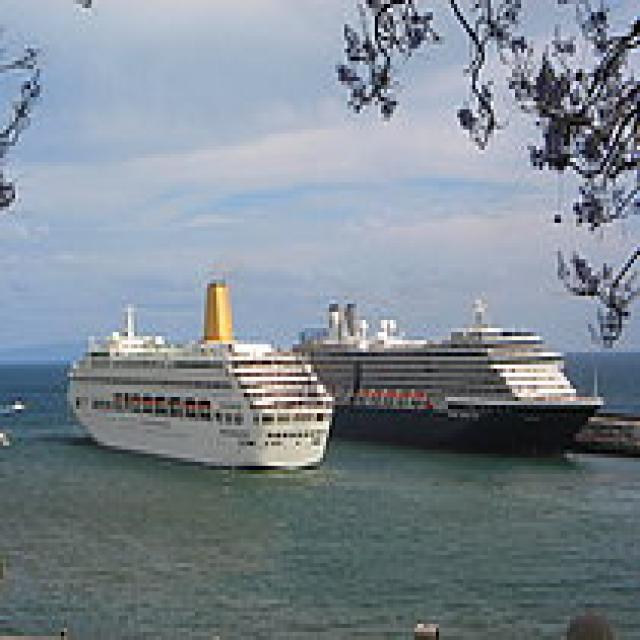Ship: (50, 264, 352, 479), (291, 285, 617, 480)
